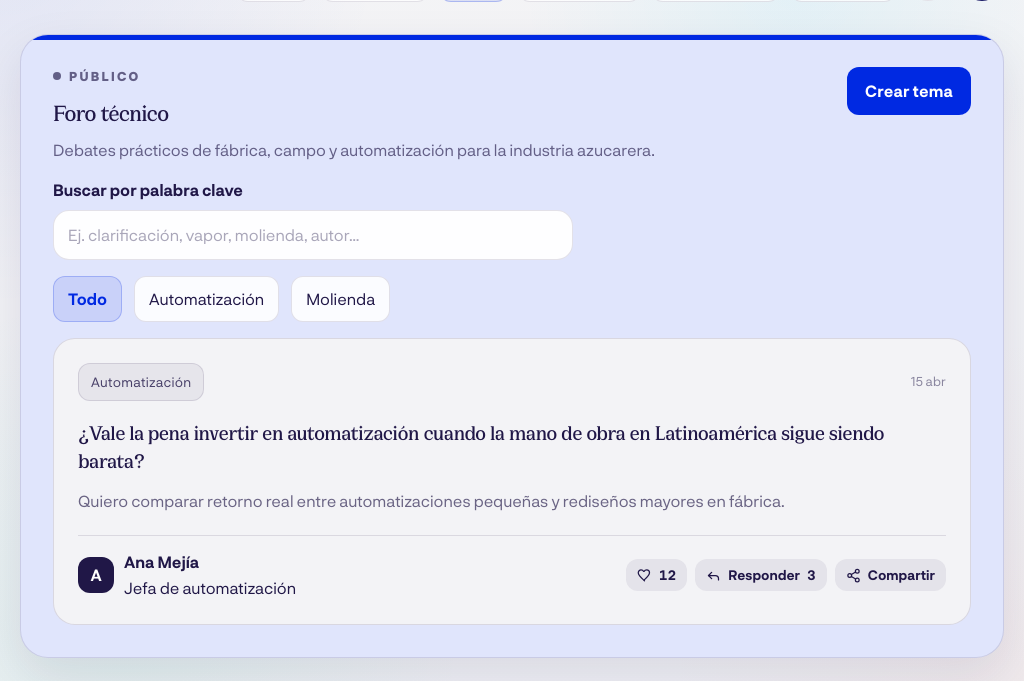
Test: lets an authenticated member reply to a thread directly from the listing
This screenshot has width=1024, height=681.
Click the button "Responder 3": (761,575) left=695, top=559, right=827, bottom=591
(page scrolled)
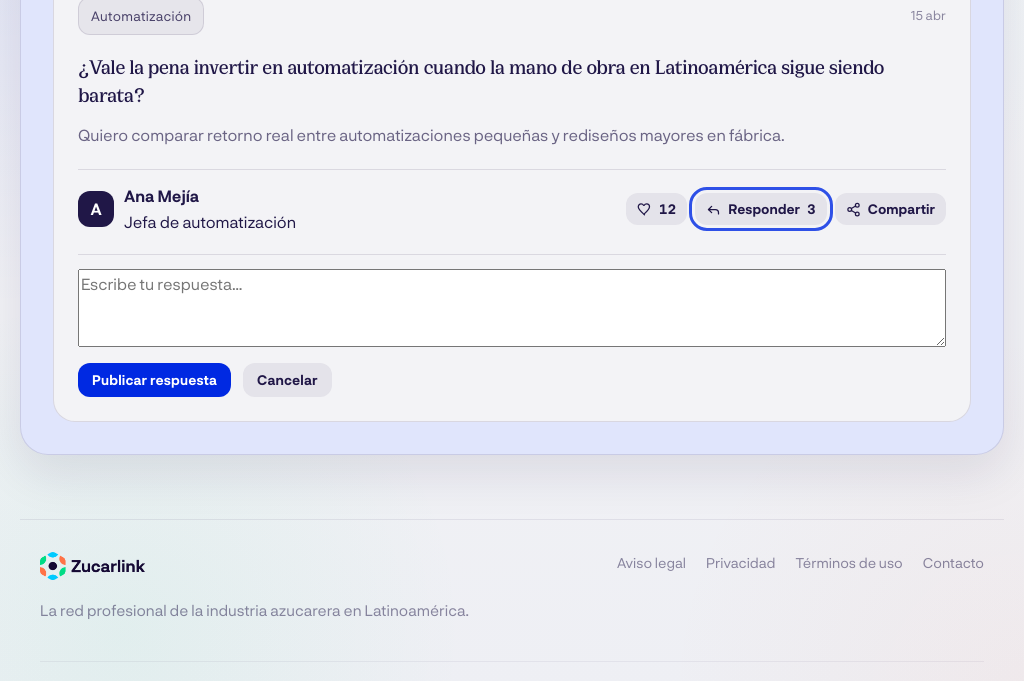
In the text box named "Responder a": (512,308) left=78, top=269, right=946, bottom=347, type "Aporte rápido desde el listado."
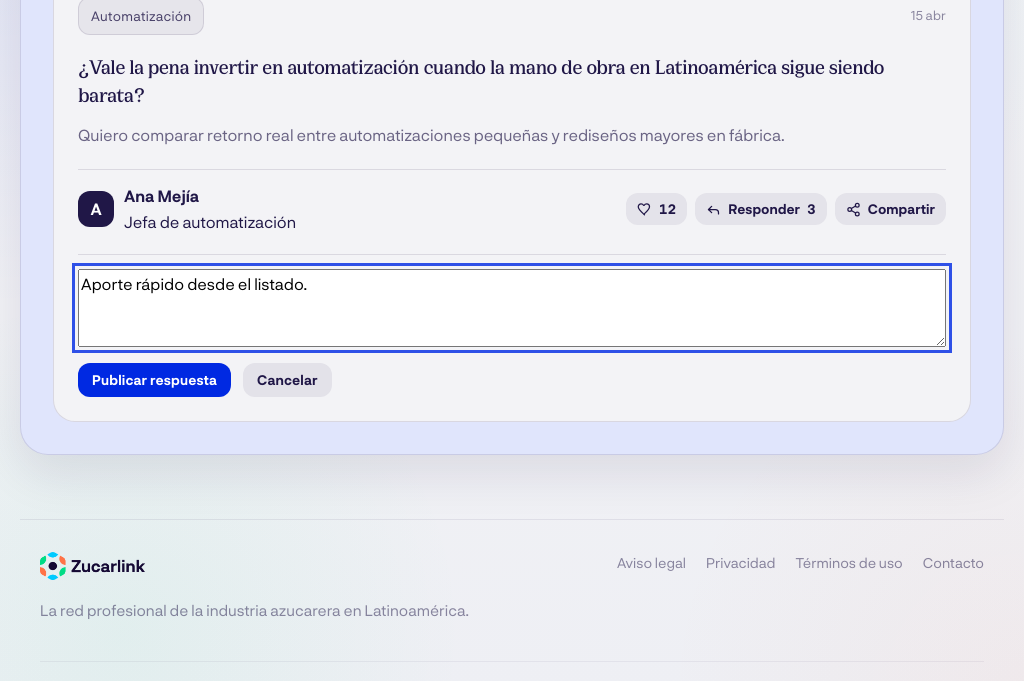
Click the button "Publicar respuesta": (155,380) left=78, top=363, right=231, bottom=397
(page scrolled)
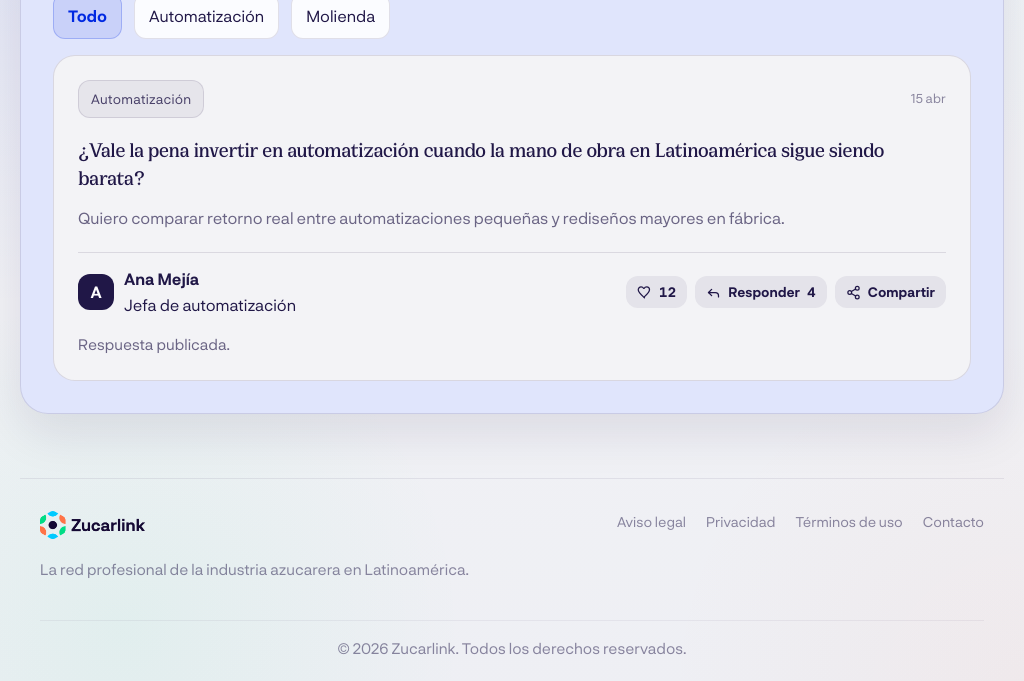
Expected: the text "Respuesta publicada." is shown, left=78, top=335, right=230, bottom=353
